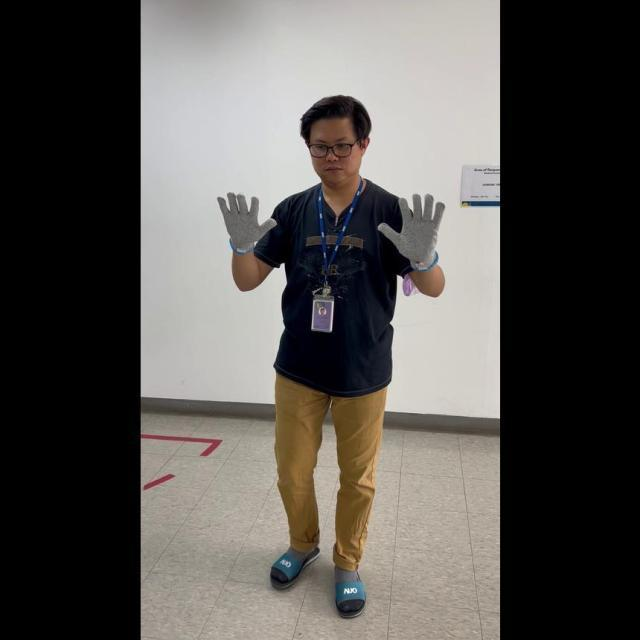gloved_hand: (377, 188, 444, 269), (216, 188, 278, 254)
